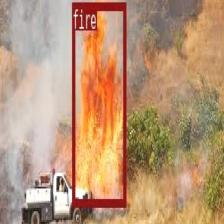fire: (72, 2, 125, 205)
